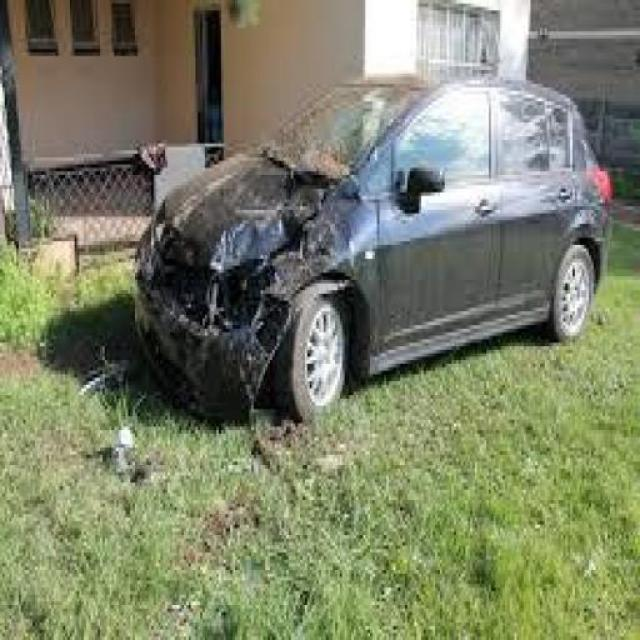crush: (134, 135, 365, 419)
